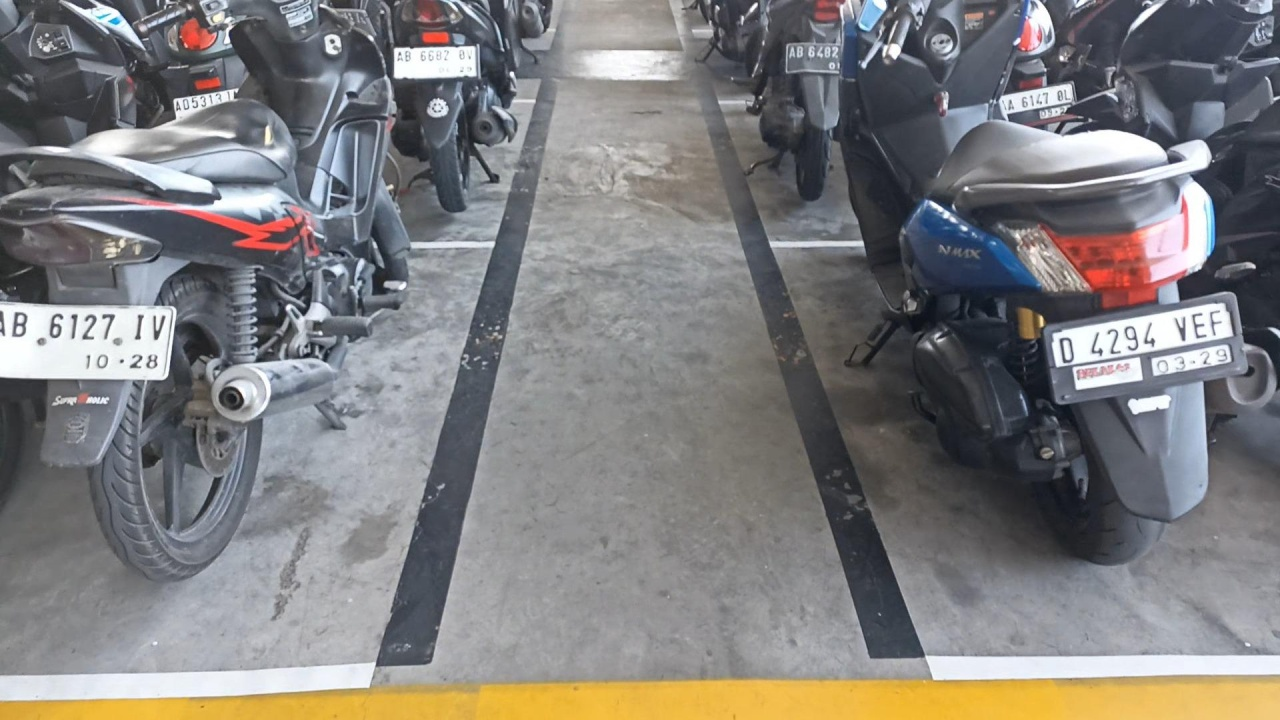plate: (1046, 297, 1244, 402), (0, 303, 175, 378), (393, 45, 479, 80)
